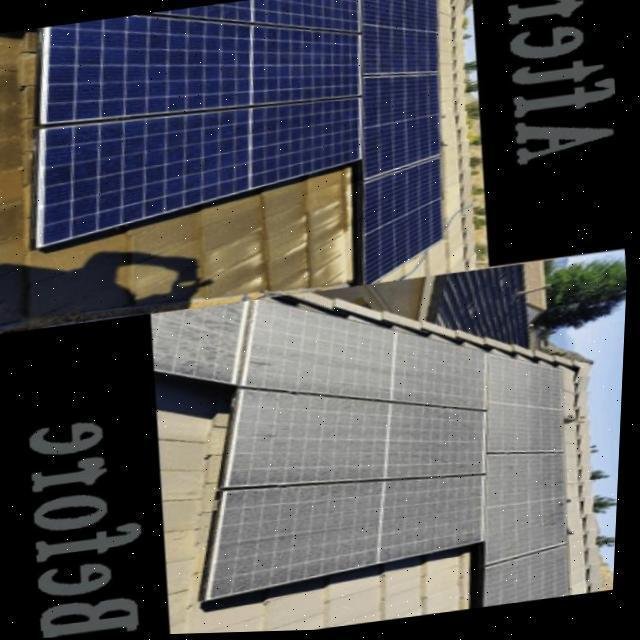Anomaly Solar Panel: (212, 482, 389, 601), (231, 387, 395, 486), (244, 300, 400, 403), (386, 476, 488, 565), (152, 300, 252, 385), (153, 300, 251, 385), (390, 404, 489, 481), (394, 332, 488, 412), (488, 501, 572, 567), (488, 547, 574, 610), (488, 455, 571, 511), (490, 354, 568, 411), (489, 404, 568, 454)
Normal Solar Panel: (41, 108, 252, 247), (42, 14, 248, 124), (252, 99, 362, 190), (251, 24, 360, 105), (366, 199, 444, 285), (366, 158, 443, 234), (363, 115, 442, 180), (362, 76, 440, 126), (361, 24, 439, 74), (251, 0, 360, 33), (362, 0, 438, 33), (149, 0, 251, 23)
Surface Contaminant: (214, 480, 394, 599), (240, 301, 400, 400), (233, 390, 395, 487), (385, 480, 490, 565), (152, 300, 254, 382), (393, 333, 495, 413), (394, 406, 490, 478), (489, 502, 576, 568), (489, 548, 576, 610), (491, 357, 575, 411), (488, 457, 568, 511), (491, 405, 568, 454)
